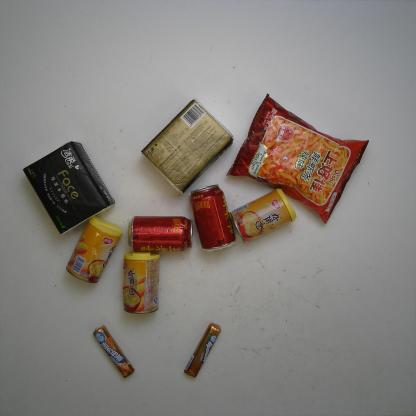Candy: (90, 323, 137, 382), (183, 322, 227, 384)
Canned Food: (62, 212, 125, 286), (230, 184, 298, 248), (120, 248, 164, 316)
Drink: (184, 184, 235, 254), (124, 210, 196, 252)
Puffed Food: (225, 89, 371, 225)
Tissue: (20, 137, 117, 240), (139, 94, 235, 197)
